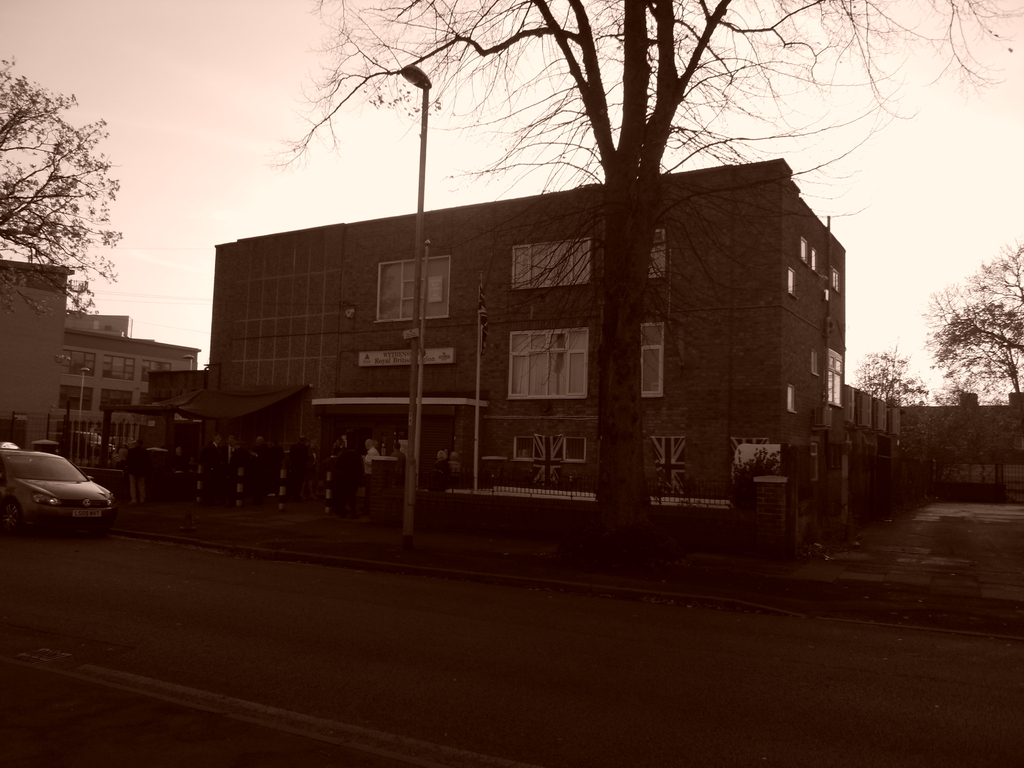cars: (4, 445, 116, 531)
